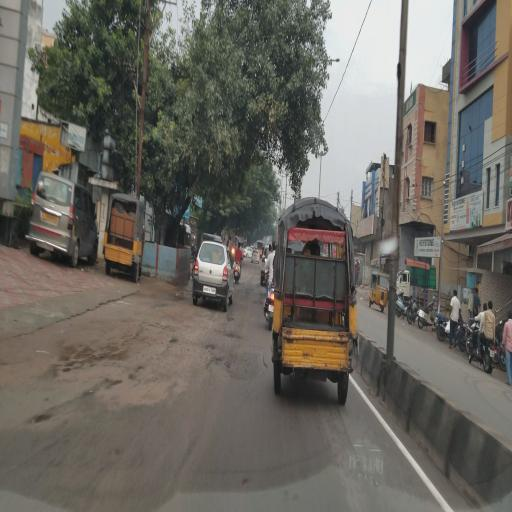street_light_0: (322, 40, 343, 76)
